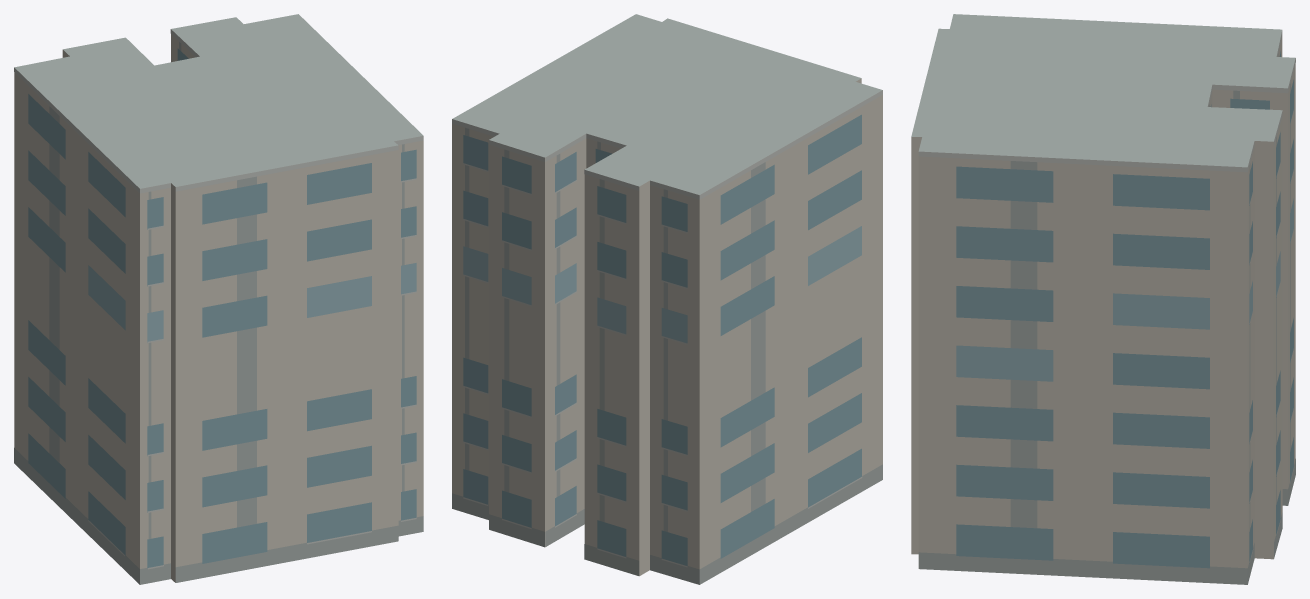
Rendered from survey-upis-32679573.glb.
3 views of the same model, side by side, from view 1: azimuth 30°, elevation 25°; view 2: azimuth 150°, elevation 25°; view 3: azimuth 270°, elevation 25° (orthographic). The views are drawn at different scales.
Visible parts, largest first — view 1: survey-upis-32679573.tmp; view 2: survey-upis-32679573.tmp; view 3: survey-upis-32679573.tmp.
Part boxes in pixels (<box>): survey-upis-32679573.tmp: <box>14,14,423,584</box>; survey-upis-32679573.tmp: <box>452,14,882,584</box>; survey-upis-32679573.tmp: <box>911,14,1295,584</box>.
Bounding box in the file's own units: 16.24 × 20.6 × 17.2.
